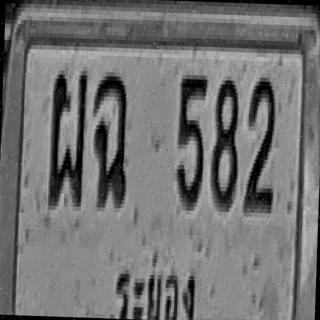A09: (90, 72, 130, 208)
A28: (46, 68, 88, 208)
N02: (243, 75, 276, 211)
N05: (174, 72, 207, 209)
N08: (209, 74, 241, 210)
P53: (114, 256, 200, 320)
